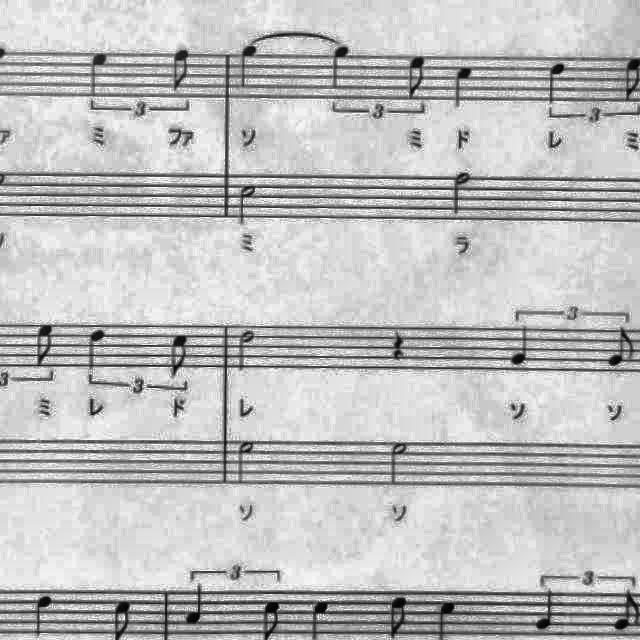Eighth-note: (603, 324, 640, 371), (402, 49, 434, 102), (164, 328, 196, 380), (166, 44, 198, 96), (30, 318, 61, 370), (608, 588, 640, 636), (382, 592, 414, 640), (105, 596, 138, 640), (258, 598, 290, 640), (639, 324, 640, 371)
Half-note: (446, 169, 474, 223), (233, 179, 263, 229), (233, 436, 261, 488), (384, 436, 412, 488), (233, 326, 259, 374)
Quarter-note: (84, 46, 116, 110), (232, 42, 266, 94), (448, 61, 480, 116), (81, 323, 112, 375), (540, 57, 572, 107), (506, 321, 538, 371), (180, 581, 212, 629), (530, 586, 562, 634), (327, 43, 357, 93), (303, 596, 337, 640), (28, 591, 58, 640), (432, 596, 464, 640)
Quarter-rest: (382, 322, 411, 366)
